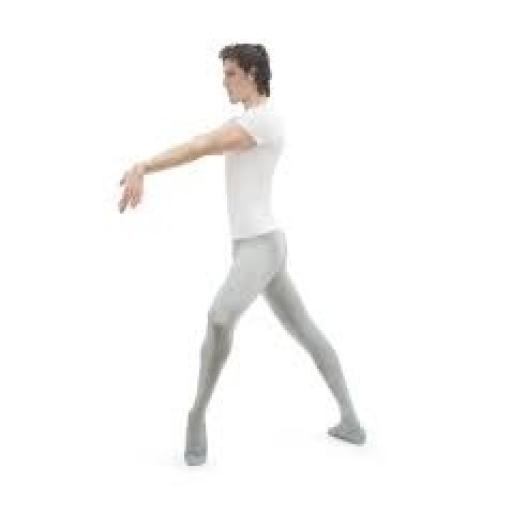dancing: (114, 39, 370, 471)
